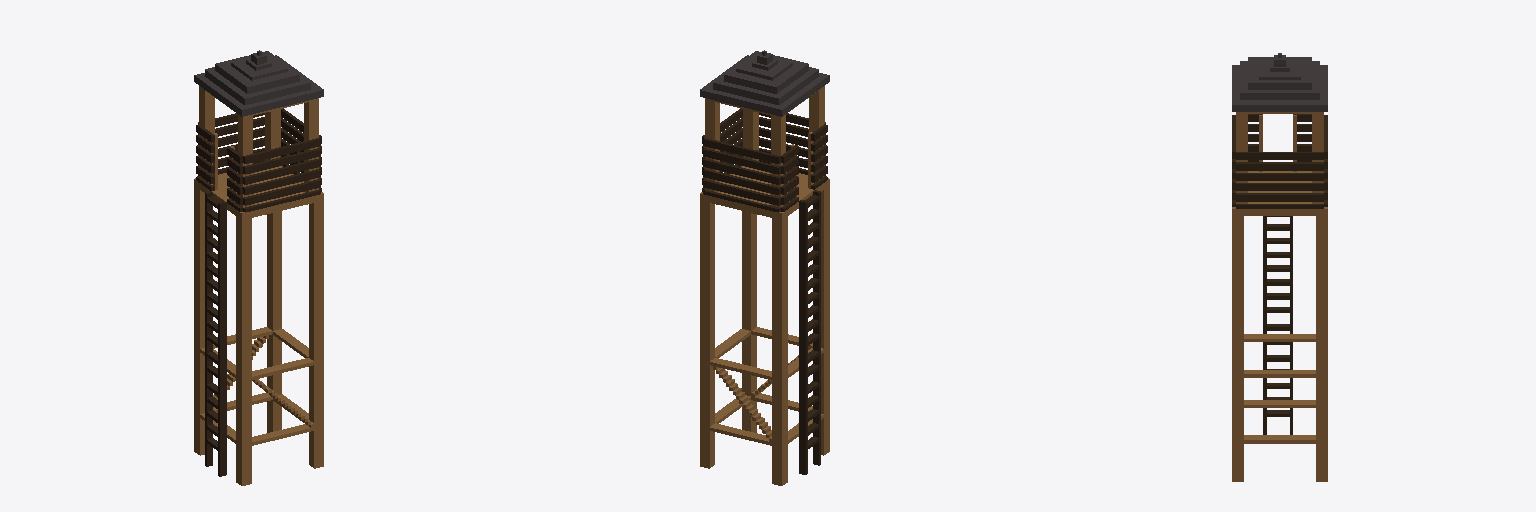
The picture shows the model from 3 angles: view 1: azimuth 30°, elevation 25°; view 2: azimuth 150°, elevation 25°; view 3: azimuth 270°, elevation 25°; orthographic projection.
Parts seen in each view (by area): view 1: object 1; view 2: object 1; view 3: object 1.
Boxes of the visible parts, x1,y1,x2,y2 form: object 1: [194, 50, 323, 485]; object 1: [700, 50, 829, 485]; object 1: [1232, 53, 1327, 481].
Bounding box in the file's own units: 2.7 × 11.8 × 2.5.
Materials: 1 (1 with a texture image).